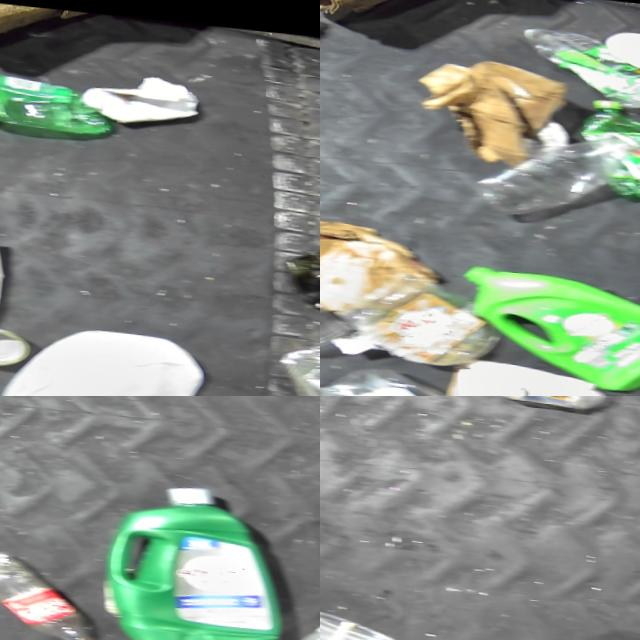can: (274, 314, 320, 396), (0, 318, 31, 363)
milk_jug: (0, 312, 207, 396)
non_white_jug: (101, 469, 290, 640), (457, 254, 640, 388)
plastic_bottle: (472, 106, 640, 216), (0, 541, 108, 640), (519, 16, 640, 104)
